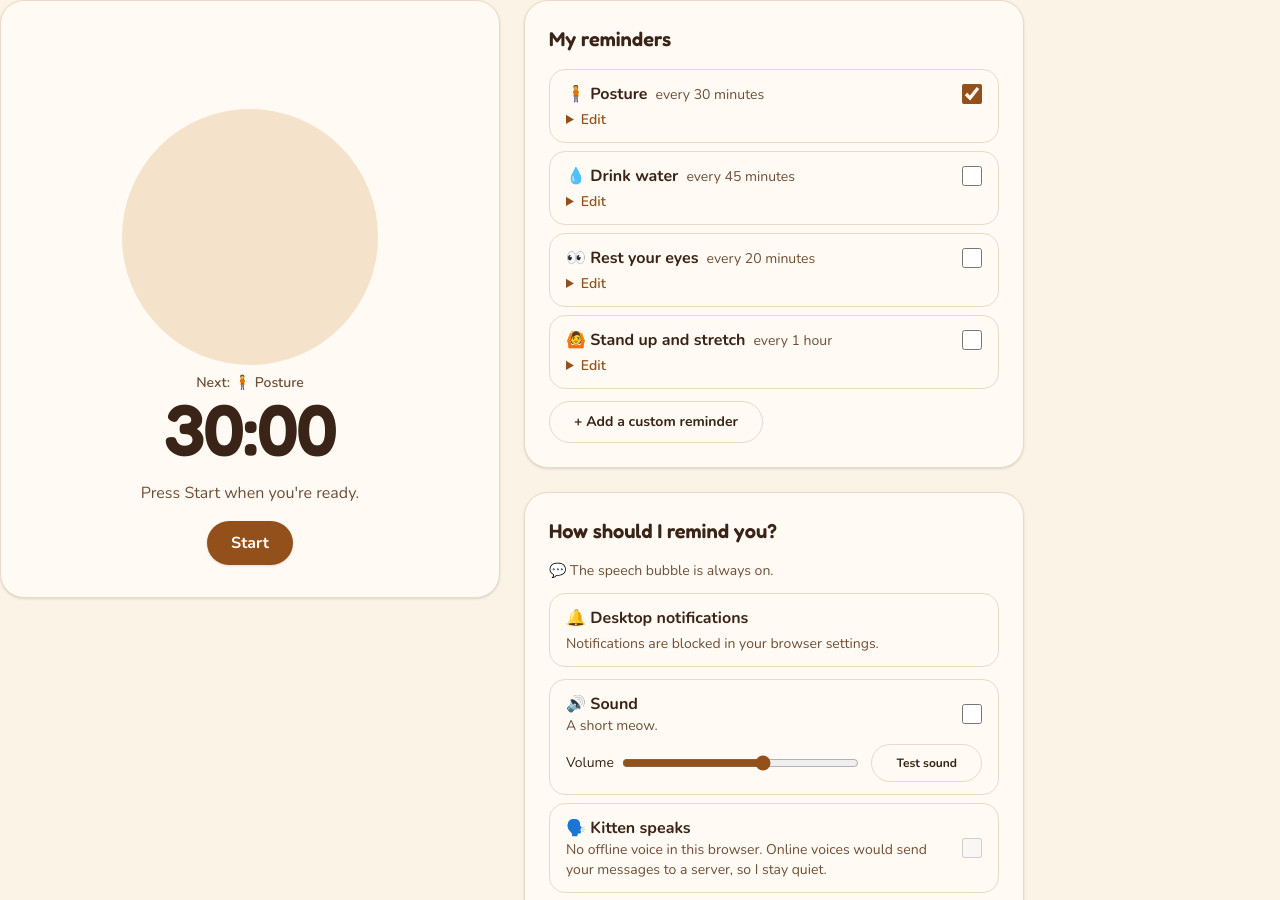
Test: defaults › cannot start when every reminder is off
Click the switch named "Posture on".
click(972, 94)  # box x1=962 y1=84 x2=982 y2=104
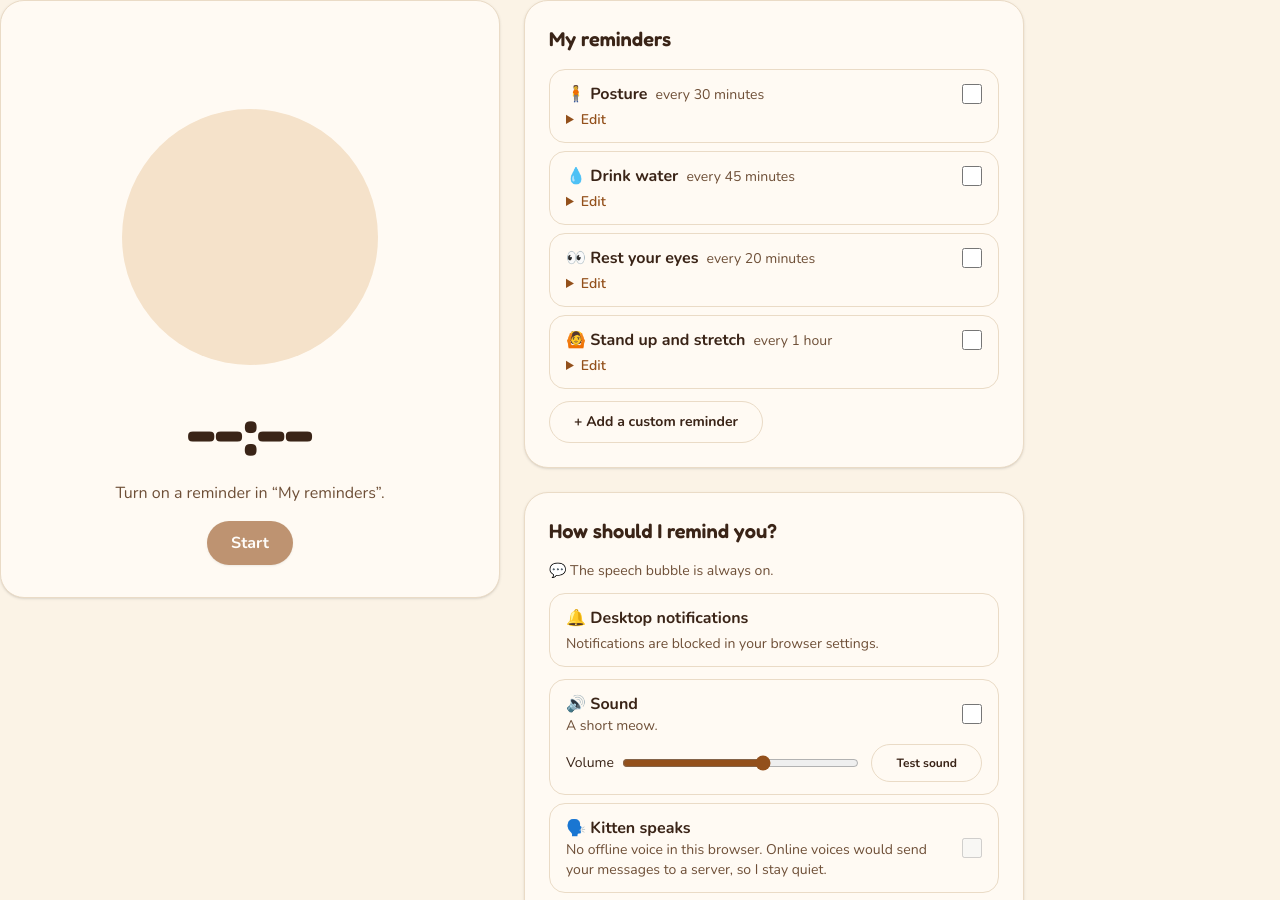
Check: the button "Start" is disabled, box x1=207 y1=521 x2=293 y2=565
Check: the message with test id "reminder-status" shows "Turn on a reminder", box x1=115 y1=482 x2=385 y2=504
